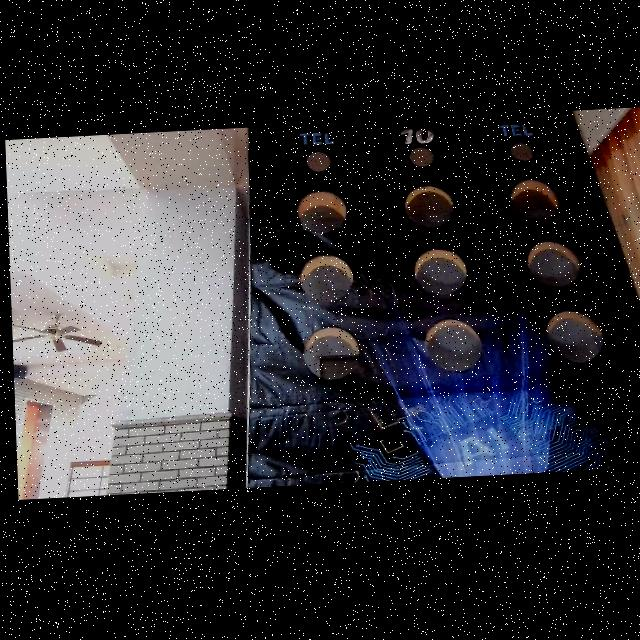hole: (422, 317, 483, 375), (547, 309, 605, 365), (305, 324, 360, 379), (300, 252, 354, 304), (413, 248, 468, 298), (526, 239, 581, 288), (297, 189, 348, 236), (404, 183, 455, 230), (509, 178, 560, 223), (408, 147, 435, 168), (306, 150, 331, 171), (509, 141, 534, 162)
